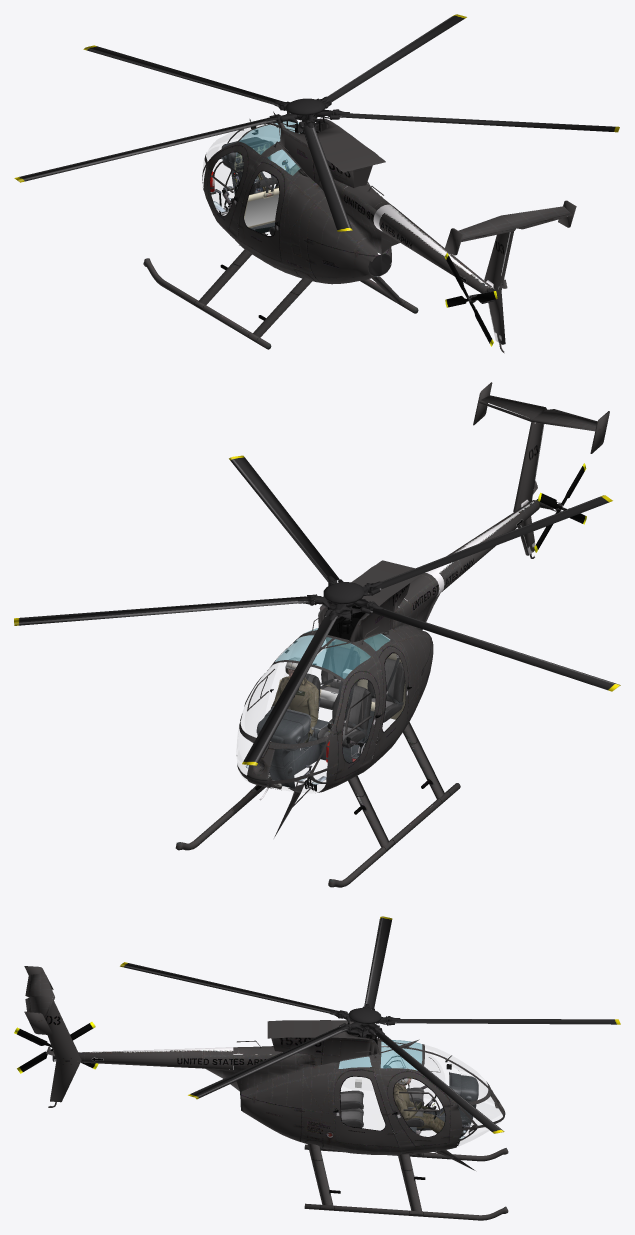
3 renders of one model, top to bottom at view 1: azimuth 30°, elevation 25°; view 2: azimuth 150°, elevation 25°; view 3: azimuth 270°, elevation 25°, orthographic. The views are drawn at different scales.
Parts seen in each view (by area): view 1: ext_fuselage1, rotor_main, ext_tail, ext_fuselage2, glasss_grn, int_seats2, int_console, rotor_tail, int_seats1, glass; view 2: rotor_main, ext_fuselage1, ext_fuselage2, ext_tail, int_seats1, int_console, glasss_grn, int_pilotR, glass, int_seats2, rotor_tail; view 3: ext_fuselage1, rotor_main, ext_tail, ext_fuselage2, int_seats1, glass, glasss_grn, int_pilotR, int_console, rotor_tail.
Boxes of the visible parts, <box> form: ext_fuselage1: <box>202,111,391,278</box>; rotor_main: <box>14,14,619,231</box>; ext_tail: <box>344,183,576,353</box>; ext_fuselage2: <box>143,118,418,349</box>; glasss_grn: <box>239,121,299,175</box>; int_seats2: <box>238,188,279,233</box>; int_console: <box>210,137,273,194</box>; rotor_tail: <box>444,253,497,346</box>; int_seats1: <box>213,119,289,235</box>; glass: <box>203,125,275,214</box>; rotor_main: <box>14,455,620,765</box>; ext_fuselage1: <box>236,579,439,837</box>; ext_fuselage2: <box>175,560,460,887</box>; ext_tail: <box>404,382,609,621</box>; int_seats1: <box>245,634,411,791</box>; int_console: <box>256,706,329,788</box>; glasss_grn: <box>275,628,389,678</box>; int_pilotR: <box>269,657,318,772</box>; glass: <box>237,663,311,792</box>; int_seats2: <box>278,679,381,762</box>; rotor_tail: <box>534,463,586,552</box>; ext_fuselage1: <box>233,1027,495,1170</box>; rotor_main: <box>120,916,620,1133</box>; ext_tail: <box>24,966,281,1107</box>; ext_fuselage2: <box>240,1020,508,1220</box>; int_seats1: <box>333,1055,472,1145</box>; glass: <box>343,1045,500,1146</box>; glasss_grn: <box>338,1040,422,1070</box>; int_pilotR: <box>393,1067,463,1138</box>; int_console: <box>416,1072,478,1135</box>; rotor_tail: <box>14,1022,98,1073</box>.
Size of the model in its own units: 7.48 by 3.44 by 9.23.
10 materials, 9 textured.
